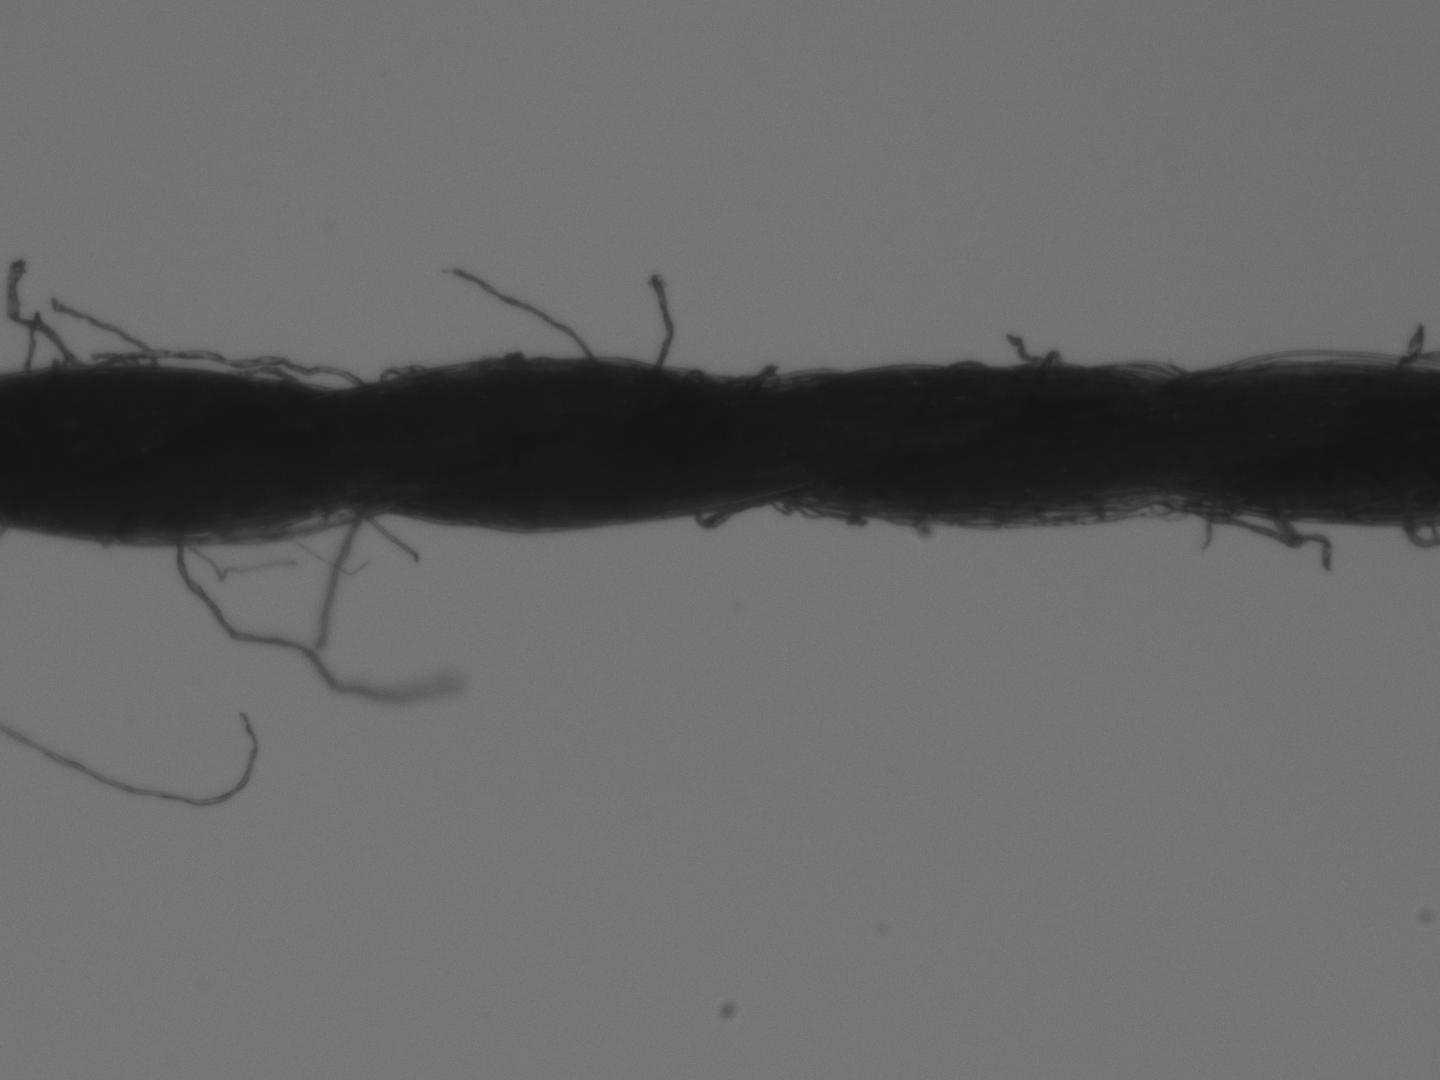loop_fiber: (136, 508, 346, 545), (1211, 346, 1405, 371), (1107, 356, 1181, 378), (237, 362, 286, 380), (381, 362, 418, 383), (802, 501, 846, 520), (695, 508, 731, 530), (772, 496, 793, 514)
protruding_fiber: (173, 537, 450, 706), (5, 711, 254, 805), (454, 264, 585, 355), (314, 503, 373, 647), (52, 295, 149, 368), (655, 275, 671, 369)
